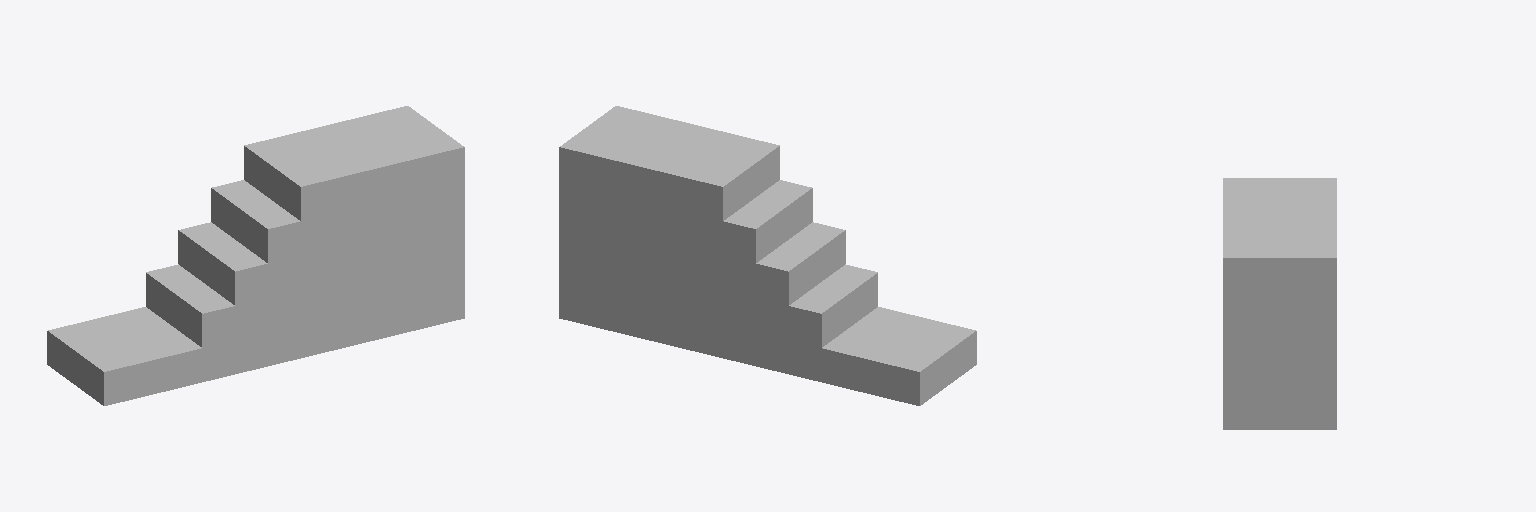
Rendered from ancient_citty_stairs_1.obj.
3 views of the same model, side by side, from view 1: azimuth 30°, elevation 25°; view 2: azimuth 150°, elevation 25°; view 3: azimuth 270°, elevation 25° (orthographic).
Parts seen in each view (by area): view 1: ancient_citty_stairs_1; view 2: ancient_citty_stairs_1; view 3: ancient_citty_stairs_1.
Boxes of the visible parts, <box> form: ancient_citty_stairs_1: <box>47,106,464,405</box>; ancient_citty_stairs_1: <box>559,106,976,405</box>; ancient_citty_stairs_1: <box>1223,178,1336,429</box>.
Bounding box in the file's own units: 11 × 5 × 3.